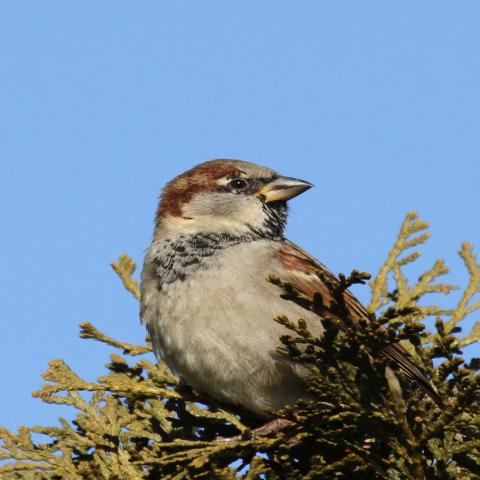bird: (136, 155, 446, 441)
